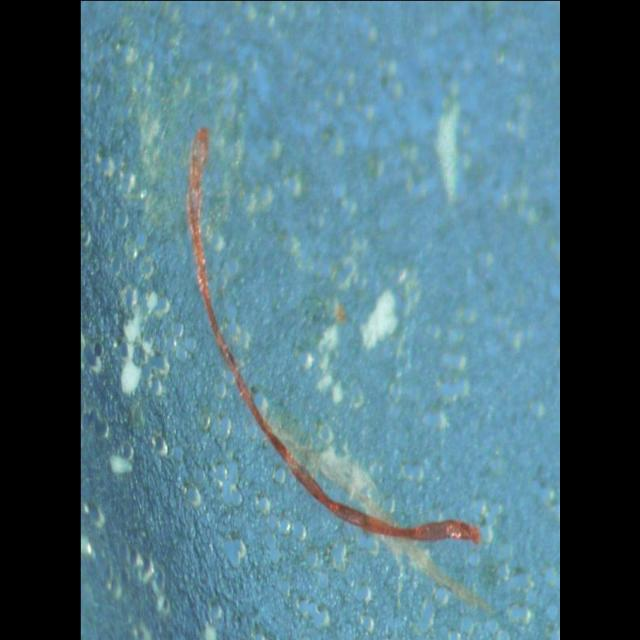Fibre: (176, 102, 486, 556)
